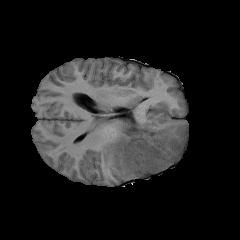glioma: (101, 106, 182, 178)
